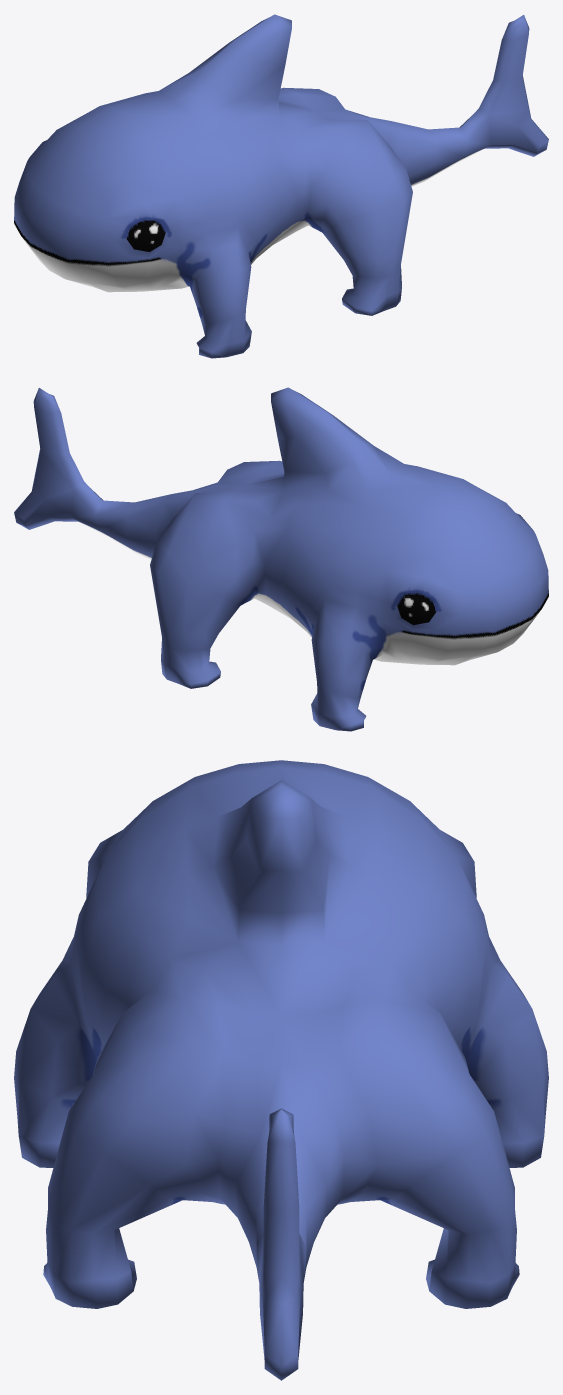
The model's file is shoggy.fbx.
The picture shows the model from 3 angles, top to bottom: view 1: azimuth 30°, elevation 25°; view 2: azimuth 150°, elevation 25°; view 3: azimuth 270°, elevation 25°; orthographic projection. The views are drawn at different scales.
Parts seen in each view (by area): view 1: shoggy.003; view 2: shoggy.003; view 3: shoggy.003.
Part boxes in pixels (x1,y1,x2,y2): shoggy.003: (14, 14, 548, 358); shoggy.003: (14, 387, 548, 731); shoggy.003: (14, 760, 548, 1380).
Size of the model in its own units: 1127 by 540 by 566.
1 material, 1 textured.
